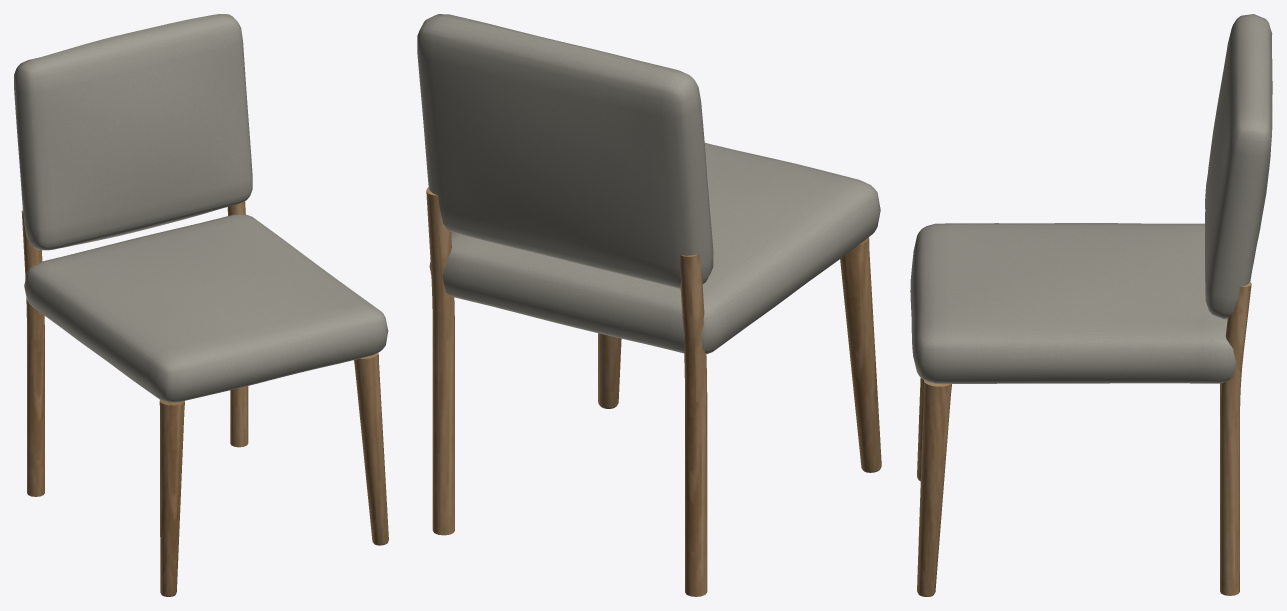
File: silla_tapizada_gris.glb
3 renders of one model, left to right at view 1: azimuth 30°, elevation 25°; view 2: azimuth 150°, elevation 25°; view 3: azimuth 270°, elevation 25°, orthographic. The views are drawn at different scales.
Parts seen in each view (by area): view 1: silla_tapizada_gris; view 2: silla_tapizada_gris; view 3: silla_tapizada_gris.
Boxes of the visible parts, box(x1,y1,x2,y2) form: silla_tapizada_gris: box(14, 14, 388, 596); silla_tapizada_gris: box(417, 14, 881, 596); silla_tapizada_gris: box(910, 14, 1272, 596).
Size of the model in its own units: 0.4878 by 0.843 by 0.5842.
Materials: 2 (2 with a texture image).
